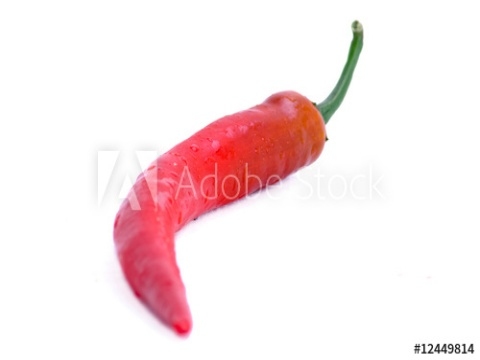Chilli: (88, 24, 368, 334)
